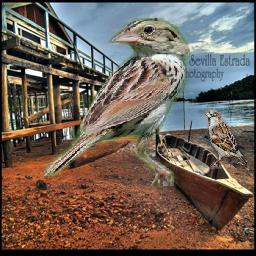Sparrow: (42, 18, 191, 186), (205, 109, 247, 169)
